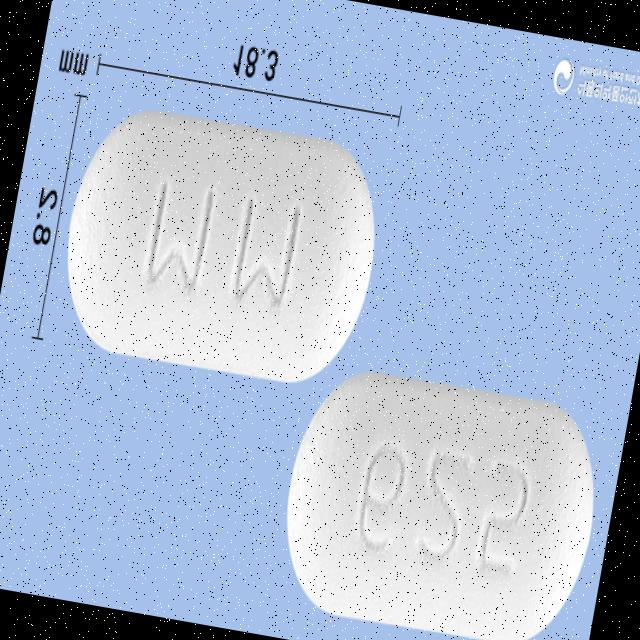Myungmoon Amoclan Tab: (48, 98, 393, 396), (269, 366, 612, 640)
